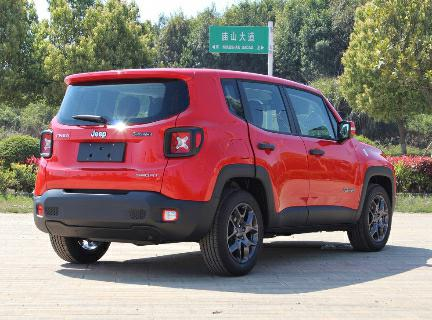Jeep-自由侠: (25, 65, 402, 280)
